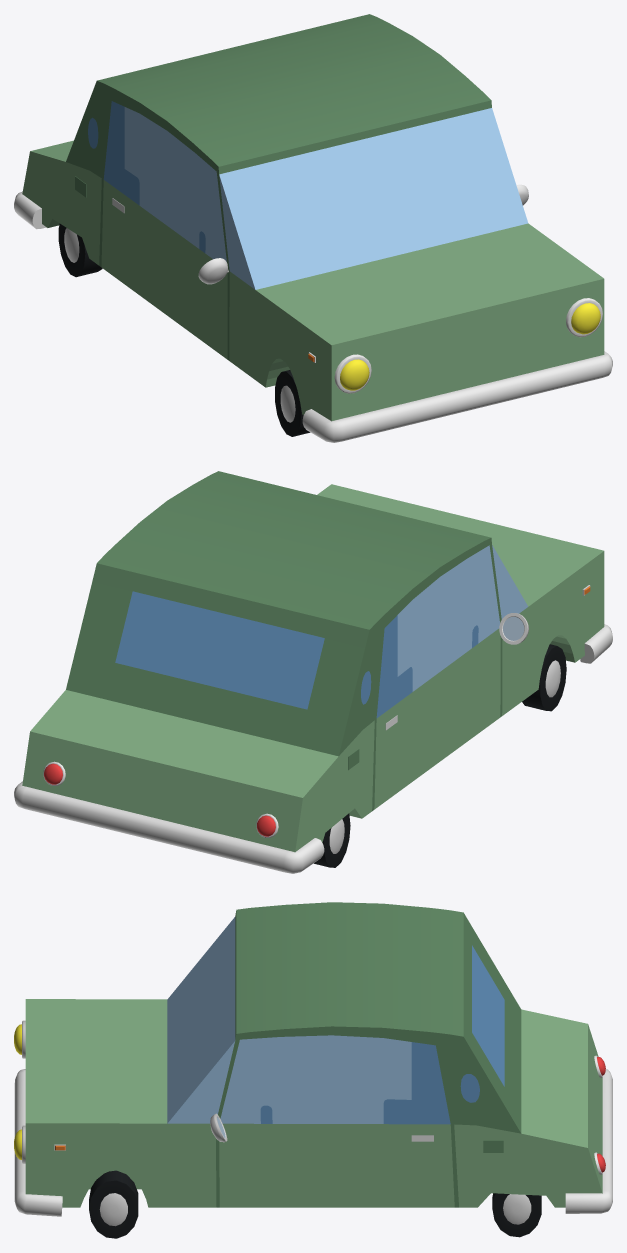
The model's file is green_car.glb.
3 renders of one model, top to bottom at view 1: azimuth 30°, elevation 25°; view 2: azimuth 150°, elevation 25°; view 3: azimuth 270°, elevation 25°, orthographic. The views are drawn at different scales.
Visible parts, largest first — view 1: green_coupe; view 2: green_coupe; view 3: green_coupe.
Boxes of the visible parts, x1,y1,x2,y2 form: green_coupe: (14,14,612,442); green_coupe: (14,471,612,873); green_coupe: (14,902,612,1238).
Bounding box in the file's own units: 2.43 × 1.62 × 4.11.
